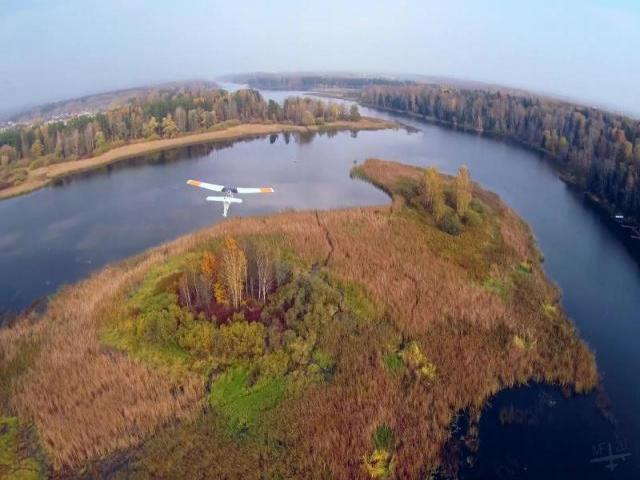hedef: (180, 173, 274, 221)
